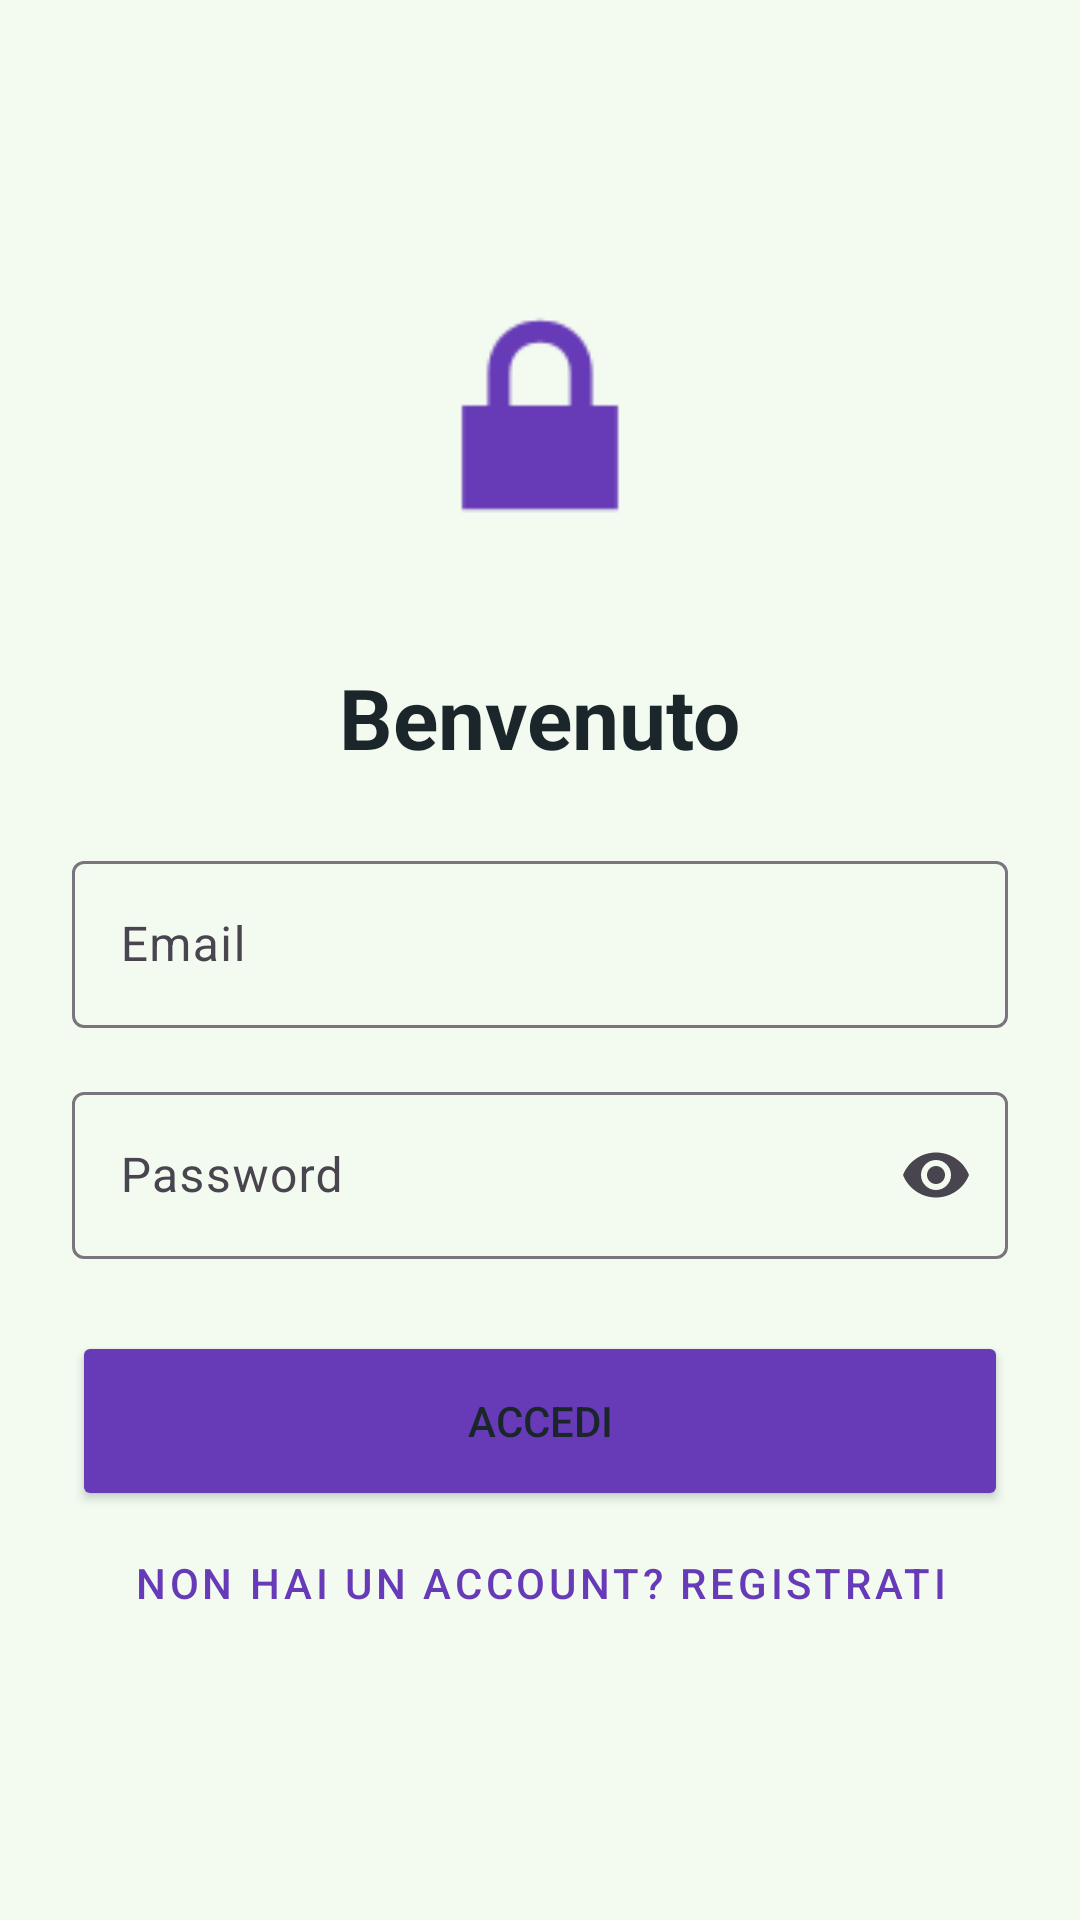

Named icons in this screenshot (1080*1920) and their bounding boxes, [x1, y1, x2, y2]:
lock: [461, 319, 619, 511]
